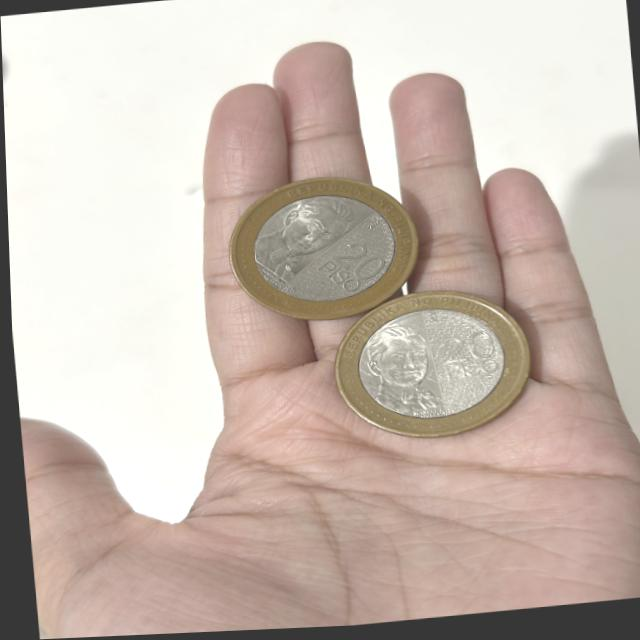20_New_Front: (426, 329, 506, 396), (314, 241, 383, 301)
